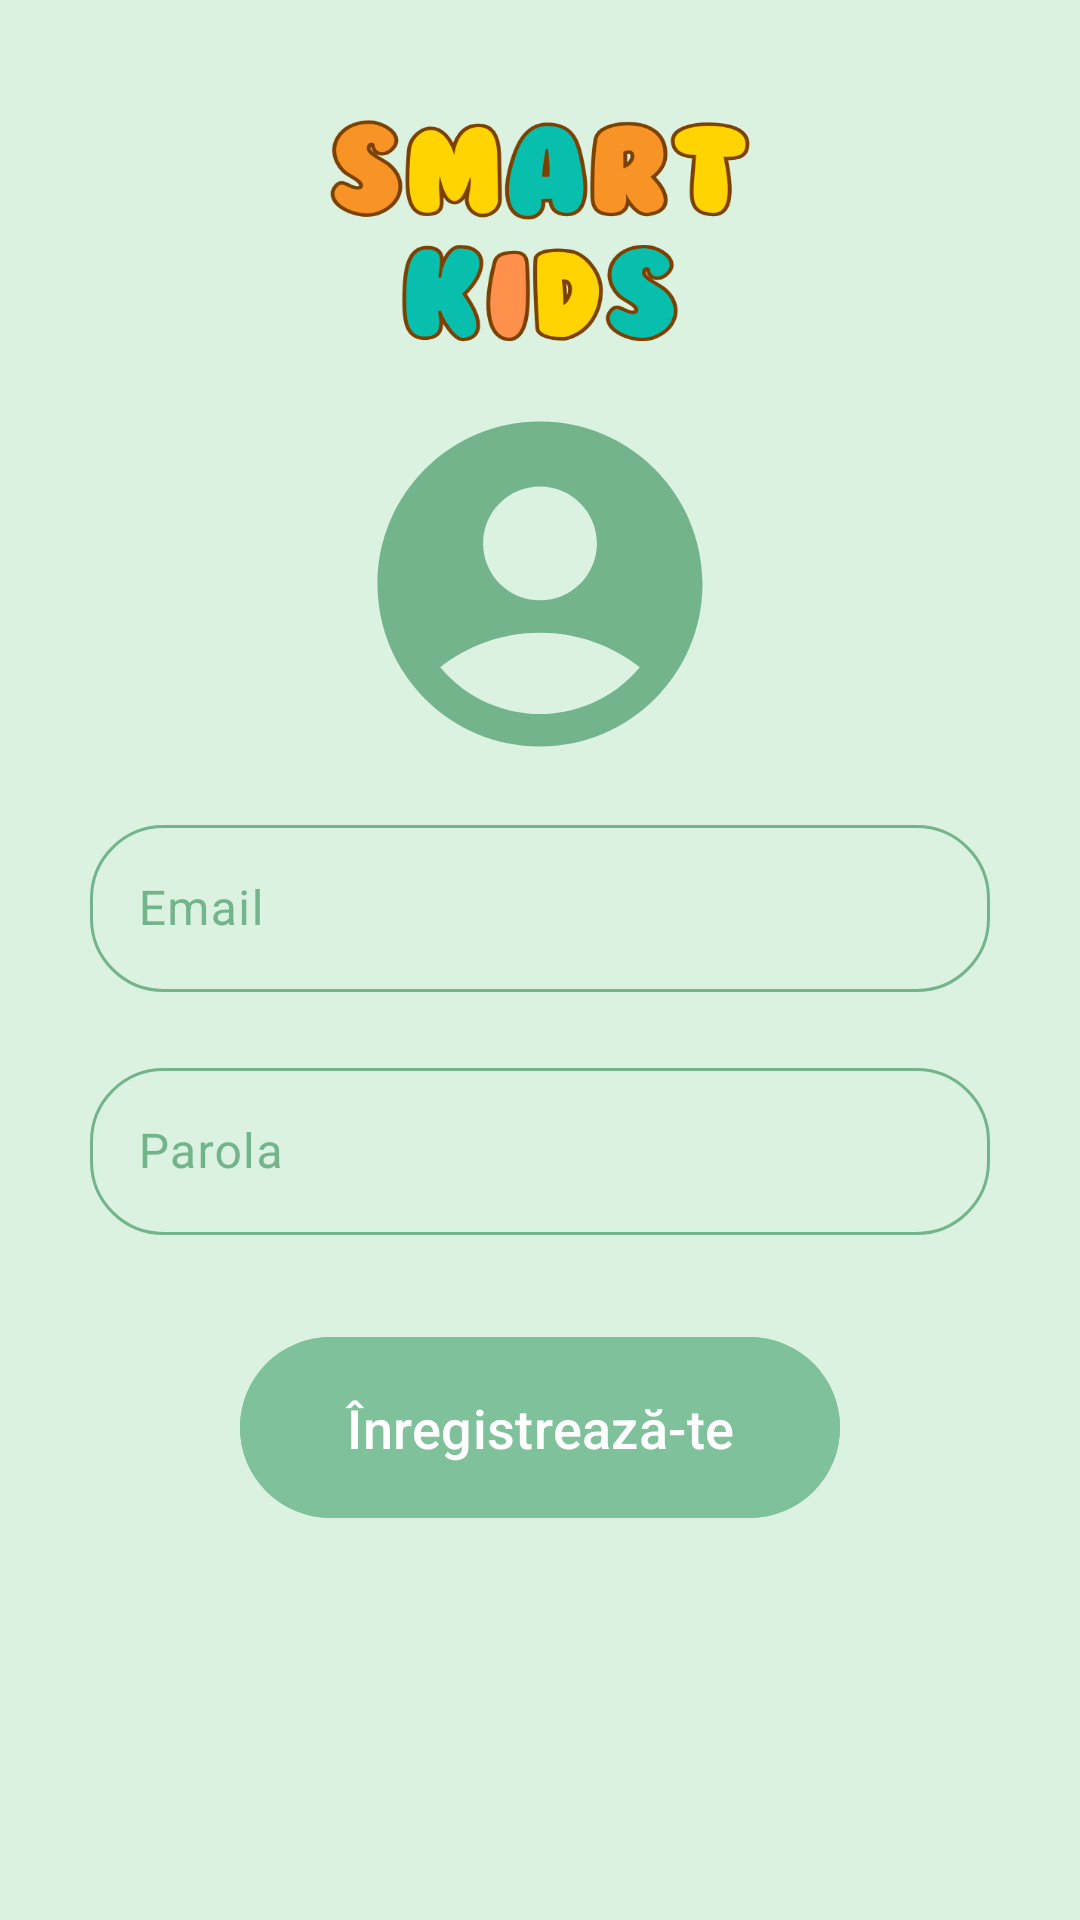

Where icons sit on this 1080×1920 app screen, as (x1, y1, x2, y2):
account circle: (377, 421, 703, 747)
